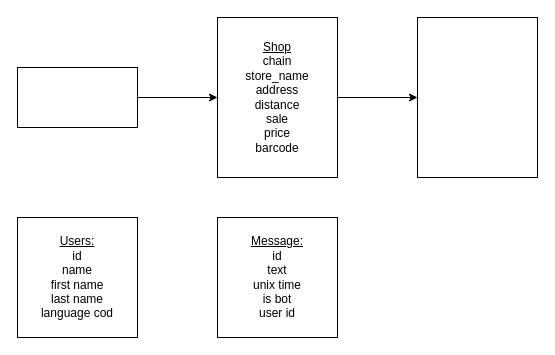
Some shapes in this 555 by 355 pixel diagram are drawn without their labels. The box of each missing label's shape, as (x1, y1, x2, y2) in pixels:
Online_Shop chain store_name website sale price barcode: (416, 16, 538, 178)
Product: barcode name: (16, 66, 138, 128)
